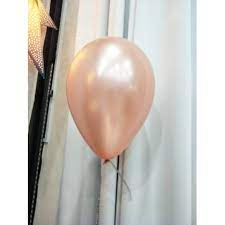Balloon: (65, 37, 155, 159)
